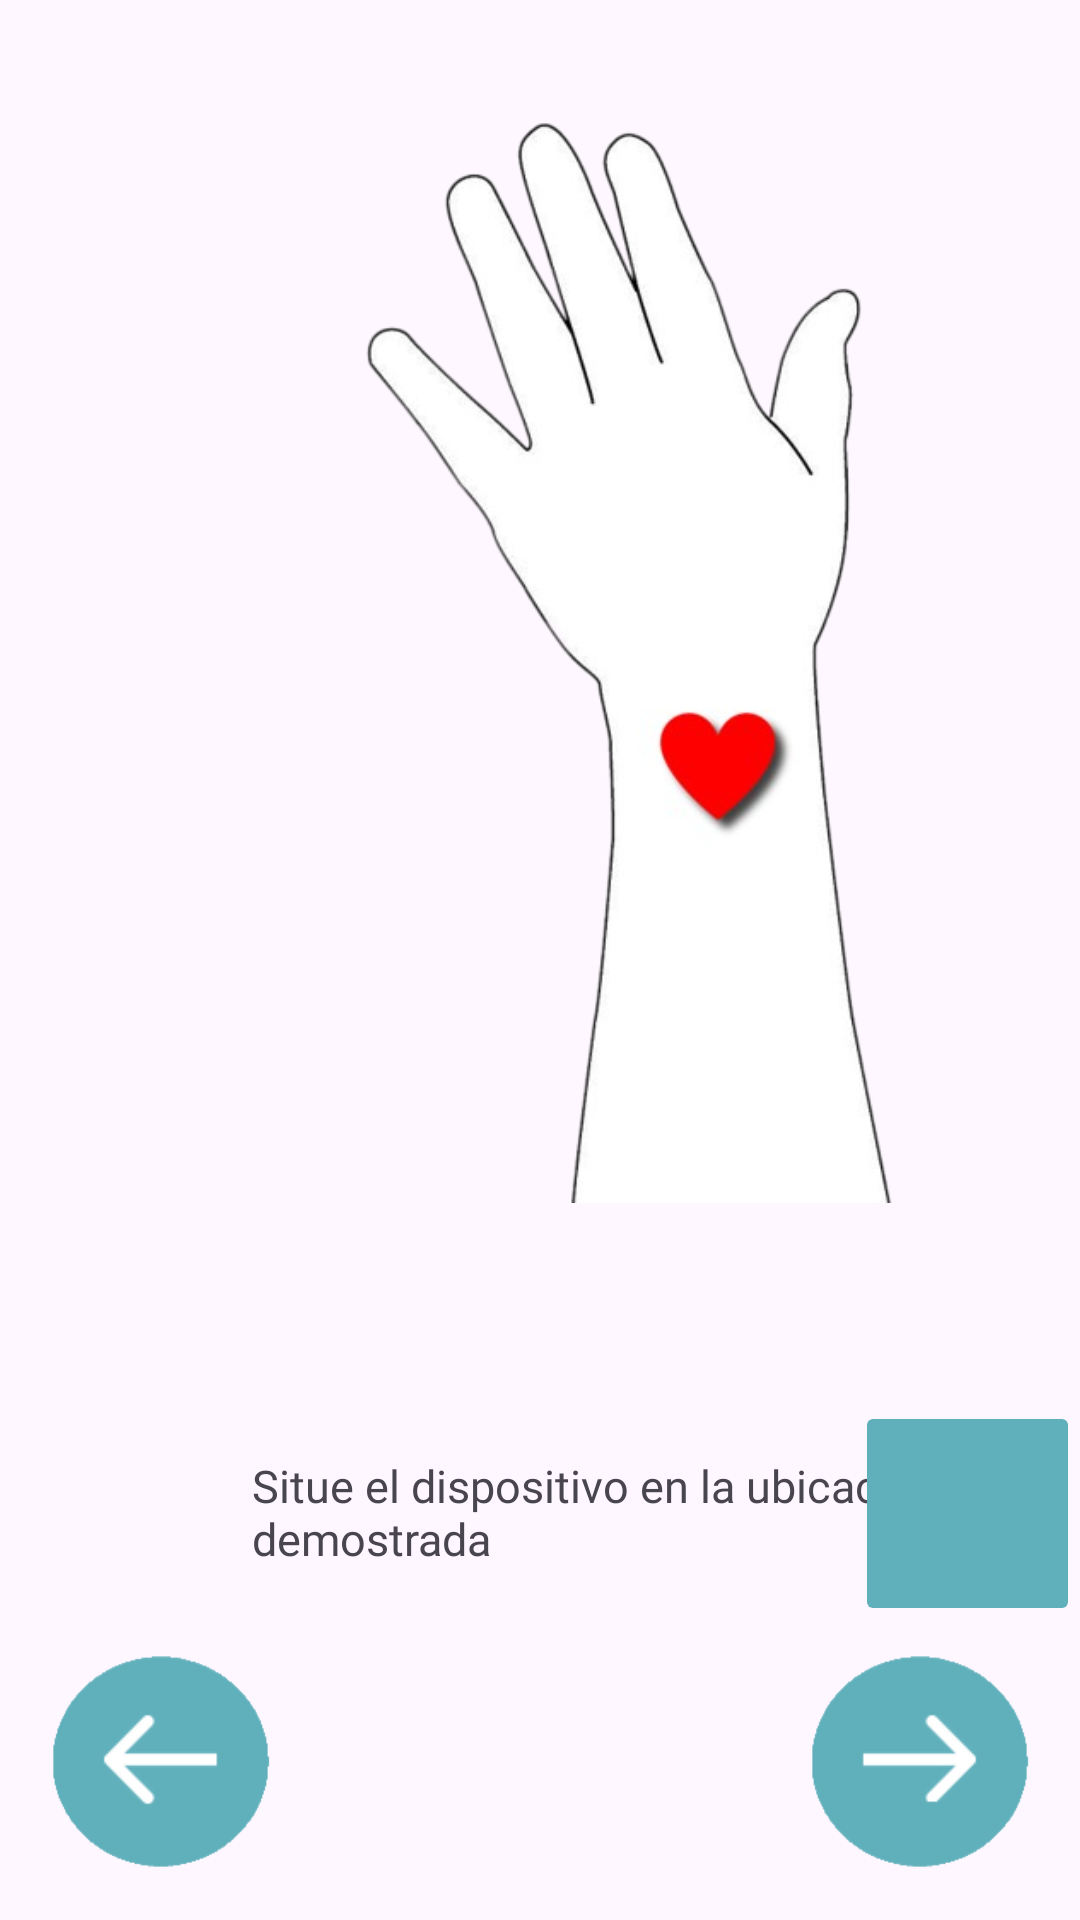

Icon click points for this 1080w x 1920h phone screenshot, format (x=x, y=y):
flecha derecha: (x=920, y=1761)
flecha izquierda: (x=161, y=1761)
